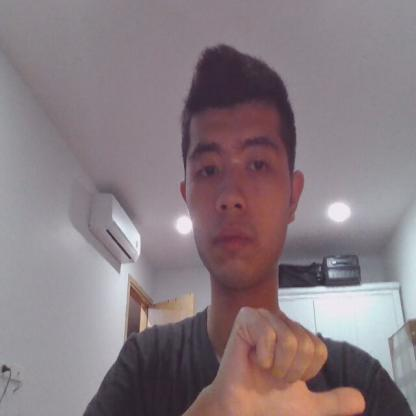left: (207, 305, 366, 415)
